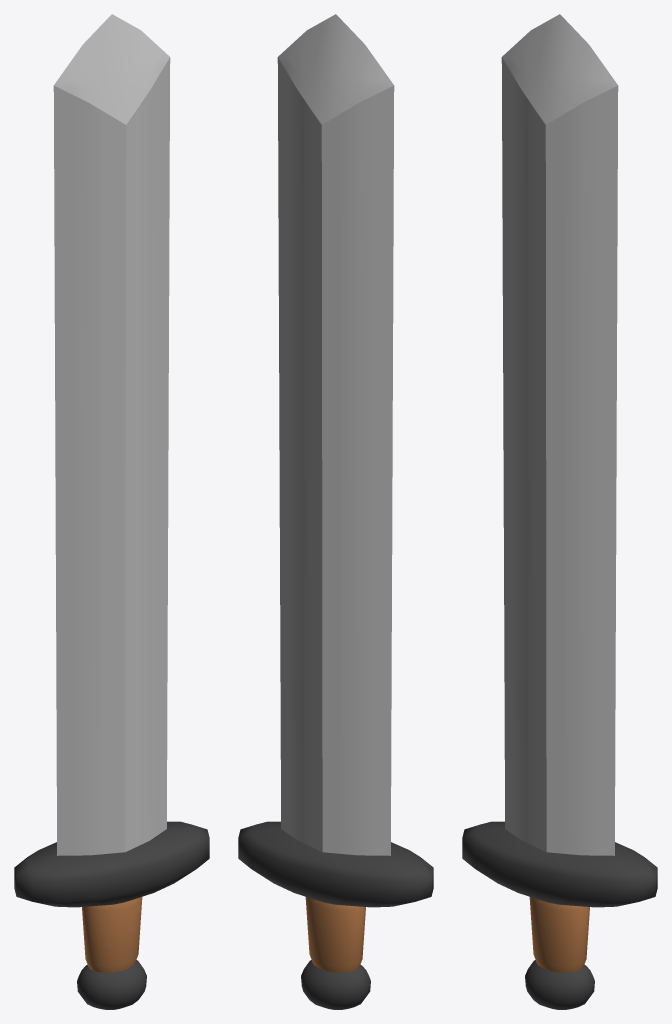
The model's file is Sword.fbx.
3 renders of one model, left to right at view 1: azimuth 30°, elevation 25°; view 2: azimuth 150°, elevation 25°; view 3: azimuth 330°, elevation 25°, orthographic.
Parts seen in each view (by area): view 1: Sword; view 2: Sword; view 3: Sword.
Part boxes in pixels (box(x1,y1,x2,y2)): Sword: box(14, 14, 209, 1009); Sword: box(238, 14, 433, 1009); Sword: box(462, 14, 657, 1009).
Size of the model in its own units: 13.68 by 5.78 by 67.95.
